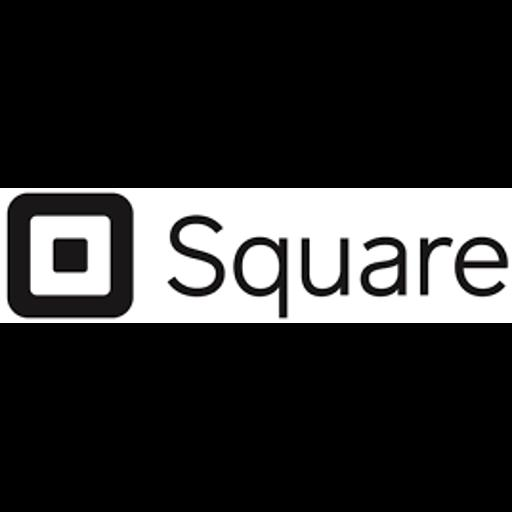Square: (0, 188, 512, 323)
